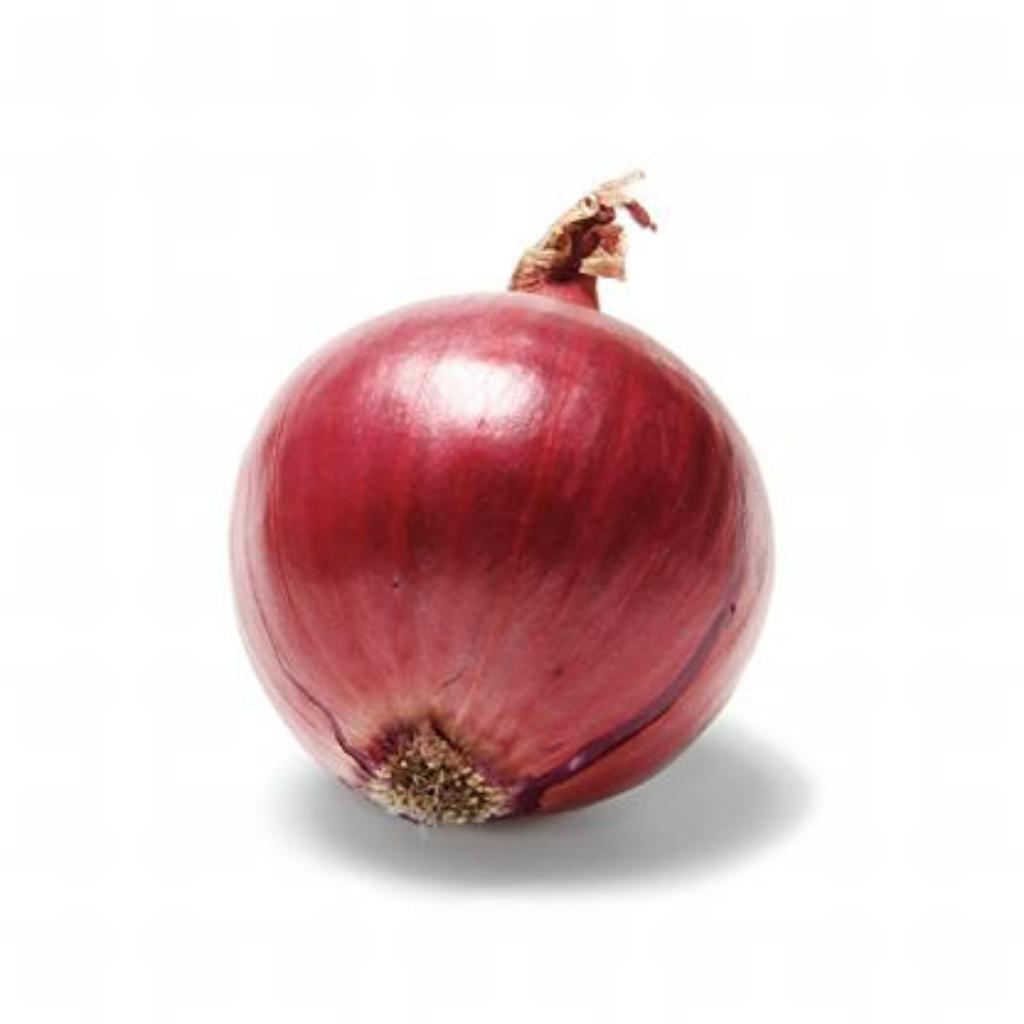Onion: (229, 197, 770, 830)
